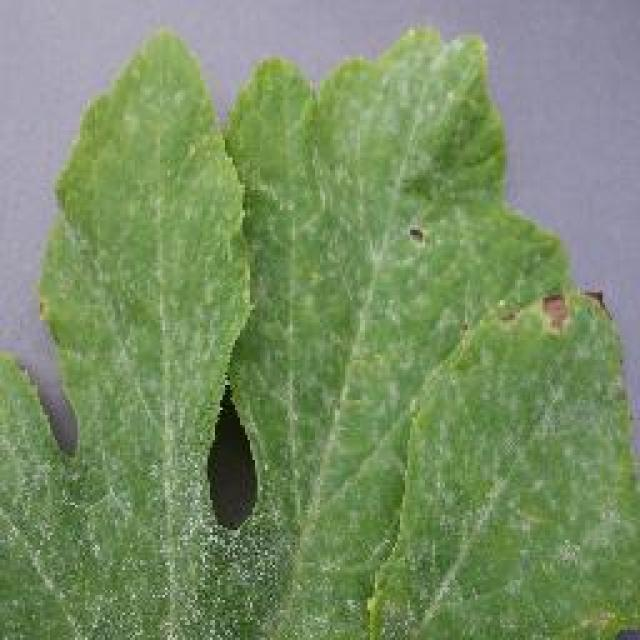Squ_Powdery_mildew: (87, 371, 407, 638)
